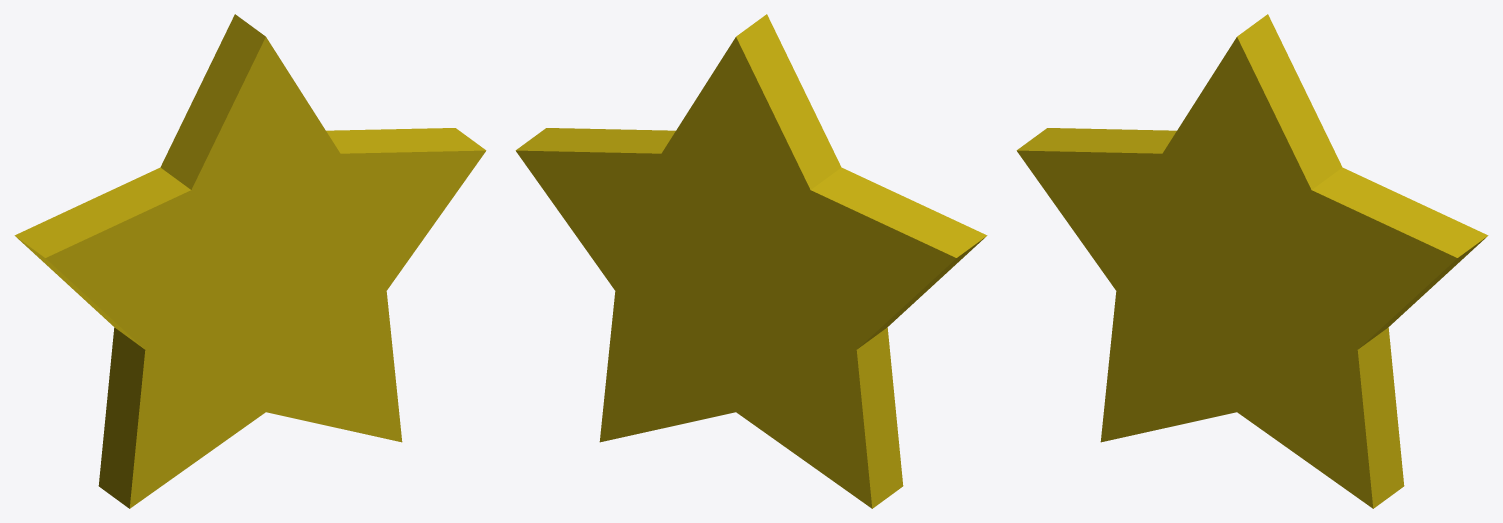
File: star.fbx
3 views of the same model, side by side, from view 1: azimuth 30°, elevation 25°; view 2: azimuth 150°, elevation 25°; view 3: azimuth 330°, elevation 25° (orthographic).
Visible parts, largest first — view 1: polySurface1; view 2: polySurface1; view 3: polySurface1.
Part boxes in pixels (x1,y1,x2,y2): polySurface1: (14, 14, 486, 508); polySurface1: (515, 14, 987, 508); polySurface1: (1016, 14, 1488, 508).
Bounding box in the file's own units: 7.89 × 7.51 × 0.9597.
Materials: 1 (1 with a texture image).
